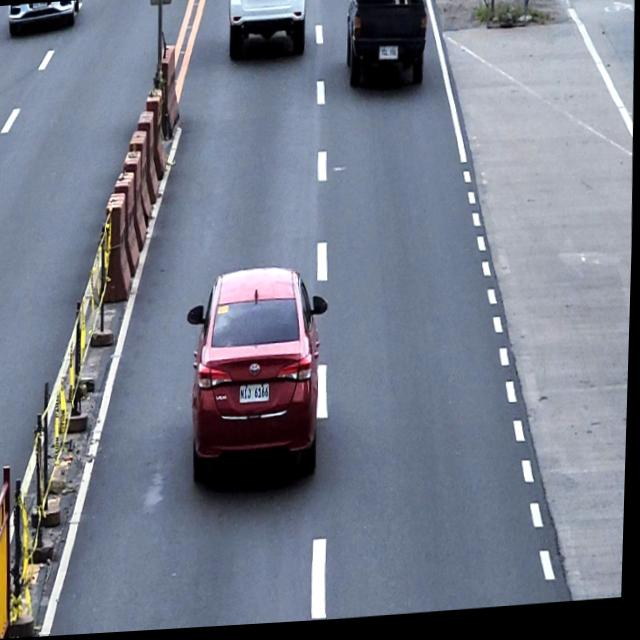Car: (183, 265, 334, 488), (342, 0, 429, 94), (226, 0, 306, 63)
License-Plate: (240, 384, 273, 408), (378, 48, 398, 64)
